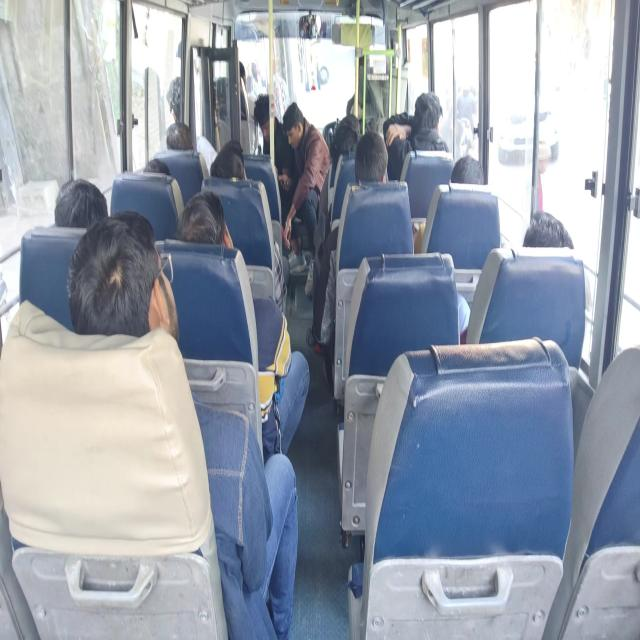person: (66, 212, 298, 638), (176, 188, 310, 462), (306, 131, 389, 353), (66, 210, 178, 342), (210, 140, 290, 310), (280, 102, 331, 295), (252, 93, 306, 273), (522, 209, 592, 315), (383, 91, 449, 181), (165, 75, 218, 170), (253, 92, 293, 188), (177, 188, 233, 249), (54, 177, 108, 228), (522, 210, 574, 248), (210, 139, 247, 180), (450, 154, 484, 184), (166, 120, 193, 150), (143, 158, 170, 174)
